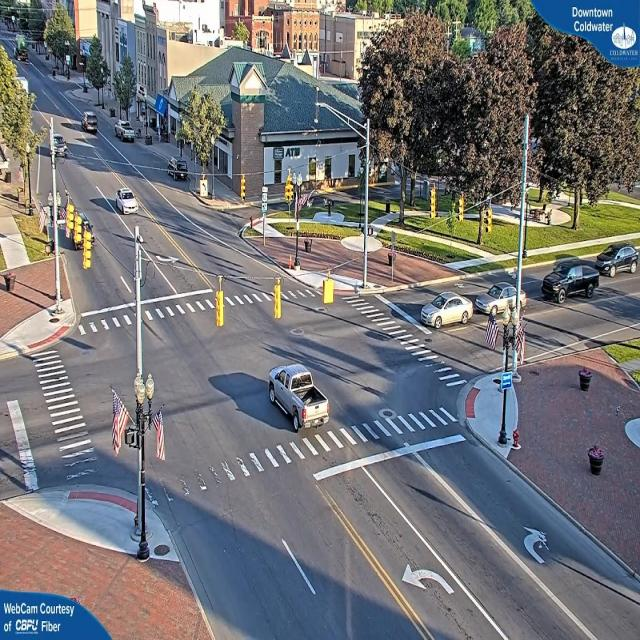car: (267, 361, 329, 435), (543, 260, 603, 301), (473, 281, 527, 316), (422, 297, 469, 328), (596, 243, 638, 277), (115, 188, 138, 213), (164, 157, 188, 180), (116, 123, 136, 143), (52, 133, 67, 157), (84, 112, 97, 136)
